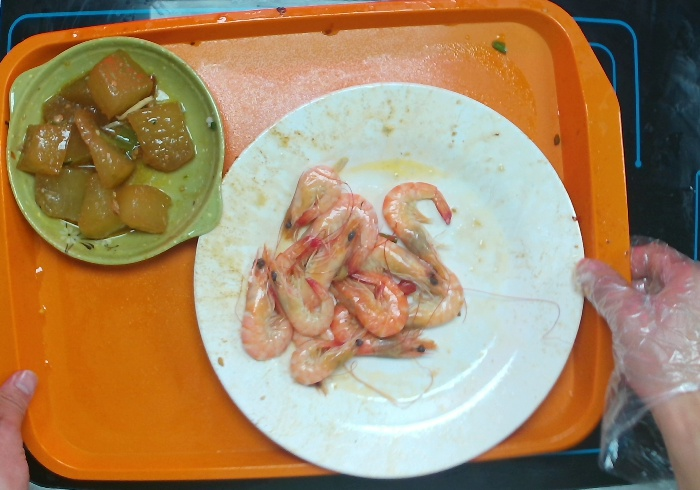NLDX-Da_Yuan_Pan: (193, 85, 584, 483)
NLDX-Lv_Hua_Shuang_Er_Die: (5, 37, 228, 270)
